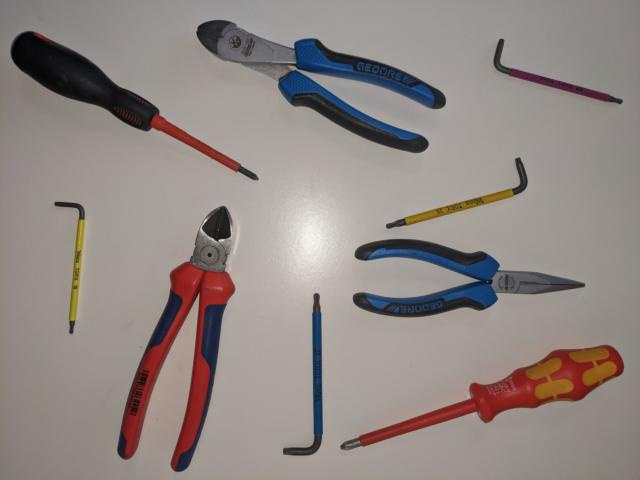Inbusschlüssel: (383, 154, 532, 232), (489, 35, 626, 108), (280, 291, 326, 460), (50, 198, 89, 336)
Schraubendreher: (9, 28, 264, 185), (336, 341, 627, 453)
Seitenschneider: (194, 16, 449, 155), (115, 203, 239, 474)
Zange: (350, 237, 588, 320)
